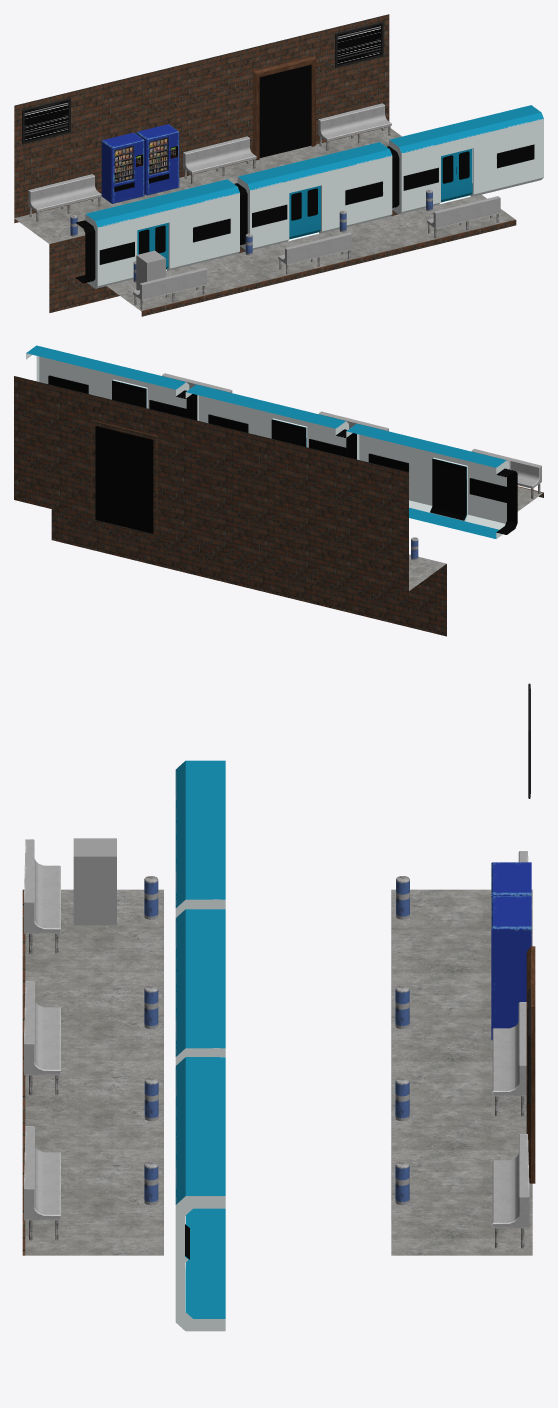
The model's file is TrainStation.fbx.
3 views of the same model, one above another, from view 1: azimuth 30°, elevation 25°; view 2: azimuth 150°, elevation 25°; view 3: azimuth 270°, elevation 25° (orthographic). The views are drawn at different scales.
Parts seen in each view (by area): view 1: Buildings, TrainCarriage3, TrainCarriage2, TrainCarriage, VendingMachine1, VendingMachine2, Bench4, Bench_5, Bench5, TimeBoard4, TimeBoard3, Door (+4 smaller); view 2: Buildings, TrainCarriage, TrainCarriage3, TrainCarriage2, Bench1, Door; view 3: Buildings, TrainCarriage3, TrainCarriage, TrainCarriage2, VendingMachine2, PlayerPlaceHolder, Bench4, Bench2, Bench3, Bench1, Bench5, Door (+1 smaller).
Boxes of the visible parts, bbox=[...] form: Buildings: bbox=[14, 14, 516, 316]; TrainCarriage3: bbox=[387, 105, 543, 214]; TrainCarriage2: bbox=[234, 142, 392, 249]; TrainCarriage: bbox=[75, 179, 239, 288]; VendingMachine1: bbox=[101, 132, 144, 203]; VendingMachine2: bbox=[136, 124, 179, 195]; Bench4: bbox=[318, 103, 391, 150]; Bench_5: bbox=[28, 174, 101, 221]; Bench5: bbox=[183, 136, 256, 183]; TimeBoard4: bbox=[22, 98, 70, 144]; TimeBoard3: bbox=[335, 22, 383, 67]; Door: bbox=[253, 56, 315, 160]; Buildings: bbox=[14, 376, 543, 636]; TrainCarriage: bbox=[346, 423, 517, 538]; TrainCarriage3: bbox=[26, 345, 197, 420]; TrainCarriage2: bbox=[185, 384, 356, 459]; Bench1: bbox=[471, 448, 541, 498]; Door: bbox=[91, 420, 157, 529]; Buildings: bbox=[22, 889, 532, 1255]; TrainCarriage3: bbox=[175, 1057, 225, 1331]; TrainCarriage: bbox=[175, 760, 225, 917]; TrainCarriage2: bbox=[175, 909, 225, 1065]; VendingMachine2: bbox=[491, 896, 531, 1040]; PlayerPlaceHolder: bbox=[73, 838, 116, 925]; Bench4: bbox=[492, 1134, 529, 1248]; Bench2: bbox=[24, 981, 60, 1095]; Bench3: bbox=[24, 1126, 60, 1240]; Bench1: bbox=[24, 839, 60, 953]; Bench5: bbox=[492, 1002, 526, 1116]; Door: bbox=[526, 946, 535, 1183].
Size of the model in its own units: 24.34 by 9.26 by 11.85.
